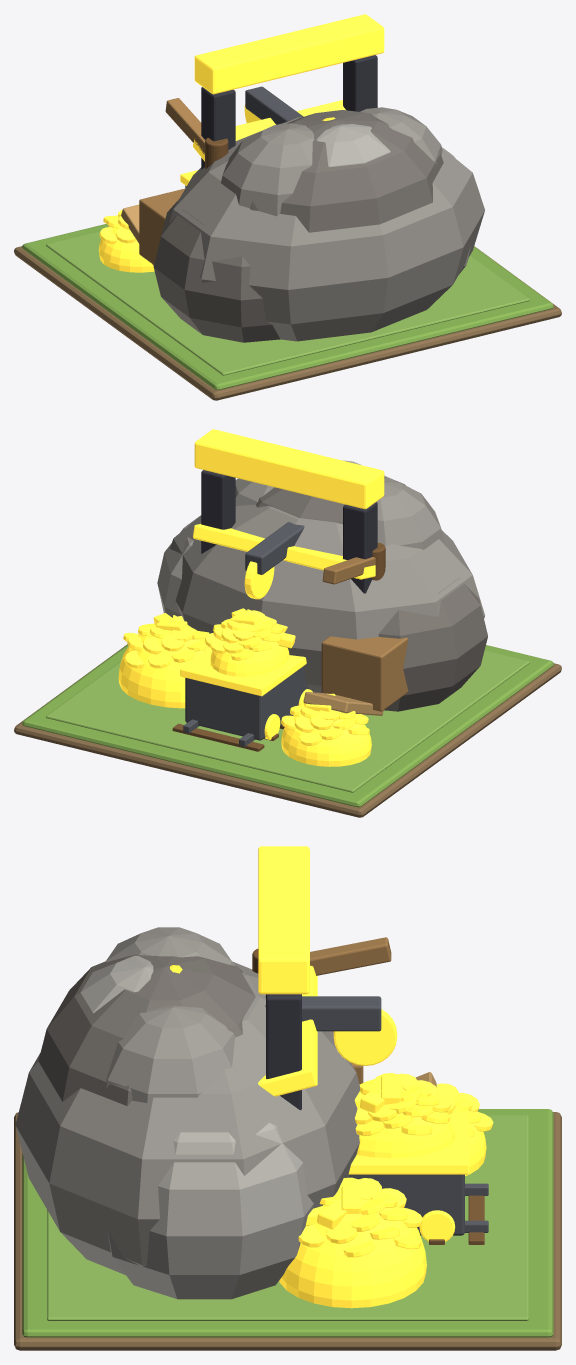
Rendered from gold_mine_lv9.glb.
3 views of the same model, one above another, from view 1: azimuth 30°, elevation 25°; view 2: azimuth 150°, elevation 25°; view 3: azimuth 270°, elevation 25° (orthographic). The views are drawn at different scales.
Parts seen in each view (by area): view 1: MineRock_0, Base_Inner, MineRock_3, Base_Grass, MineRock_1, GM_GantryBridge, Base_Dirt, MineRock_4, MineRock_6, GM_GantryLeg_1, GM_GantryLeg_-1, OreHopperBin (+6 smaller); view 2: MineRock_0, Base_Inner, Base_Grass, MineRock_1, GM_GantryBridge, Base_Dirt, OreHopperBin, MinecartBody, MineRock_4, GoldMoundBase.001, GoldMoundBase.002, MinecartRim (+12 smaller); view 3: MineRock_0, Base_Inner, MineRock_2, Base_Grass, MineRock_3, Base_Dirt, MineRock_5, GoldMoundBase.001, GM_GantryBridge, GM_GantryLeg_1, MinecartRim, MinecartBody (+10 smaller).
Boxes of the visible parts, x1,y1,x2,y2 form: MineRock_0: (169,117,484,341); Base_Inner: (46,231,529,375); MineRock_3: (250,110,443,232); Base_Grass: (22,224,553,390); MineRock_1: (153,199,280,342); GM_GantryBridge: (194,14,384,94); Base_Dirt: (14,246,561,400); MineRock_4: (221,123,314,216); MineRock_6: (316,124,390,166); GM_GantryLeg_1: (343,55,377,111); GM_GantryLeg_-1: (201,87,235,169); OreHopperBin: (139,188,184,264); MineRock_0: (170,504,484,692); Base_Inner: (46,650,529,792); Base_Grass: (22,644,553,807); MineRock_1: (378,578,487,711); GM_GantryBridge: (194,429,384,509); Base_Dirt: (14,644,561,817); OreHopperBin: (321,636,408,711); MinecartBody: (185,666,309,740); MineRock_4: (376,477,444,549); GoldMoundBase.001: (118,626,209,708); GoldMoundBase.002: (281,711,371,766); MinecartRim: (180,648,306,696); MineRock_0: (15,961,359,1274); Base_Inner: (47,1115,528,1320); MineRock_2: (107,1122,313,1299); Base_Grass: (22,1109,553,1337); MineRock_3: (38,954,255,1105); Base_Dirt: (14,1112,561,1350); MineRock_5: (106,1005,234,1102); GoldMoundBase.001: (279,1191,426,1308); GM_GantryBridge: (258,846,309,994); GM_GantryLeg_1: (266,994,301,1110); MinecartRim: (348,1110,469,1174); MinecartBody: (348,1174,464,1235).
Bounding box in the file's own units: 2.76 × 2.08 × 2.76.
